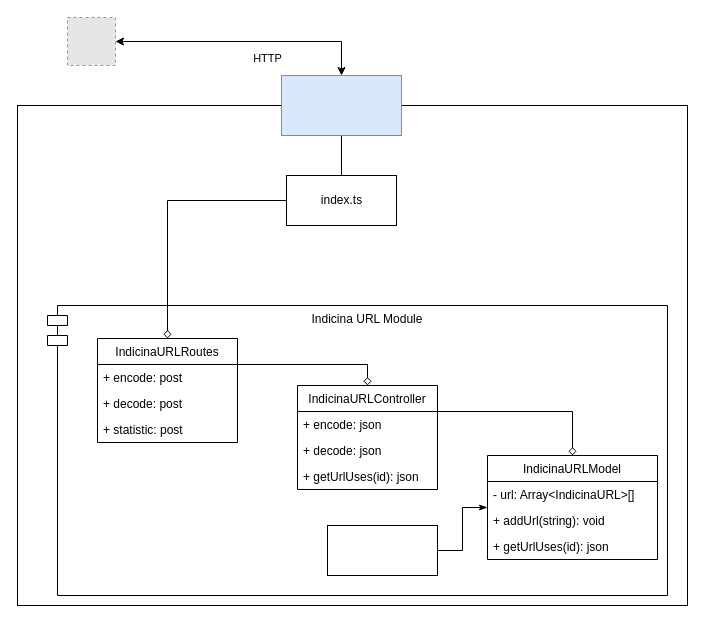
This 705x623 diagram has some shape labels left out. Grey dashed boxes stand in for pictures. The shapes that lost their labels are listed below. From the top down, each one's centre as x and y in pixels, then its label:
At point 341,105: "REST API".
At point 382,550: "«DTO» IndicinaUrl".
